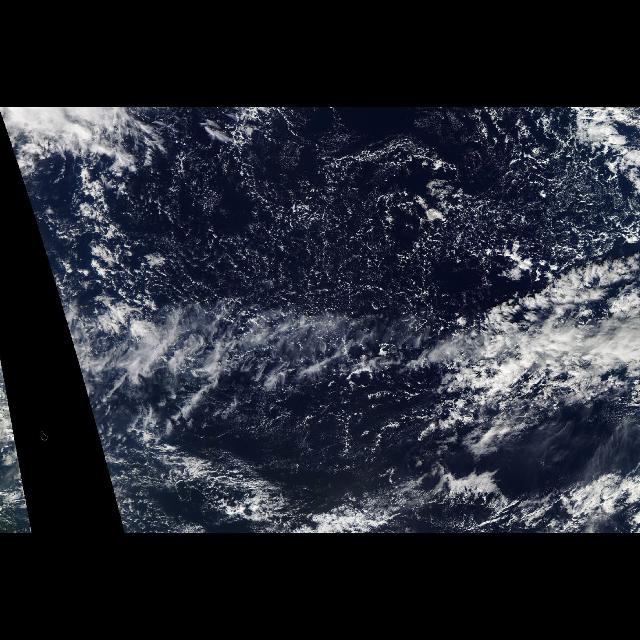Fish: (81, 277, 563, 418)
Gravel: (94, 123, 640, 311)
